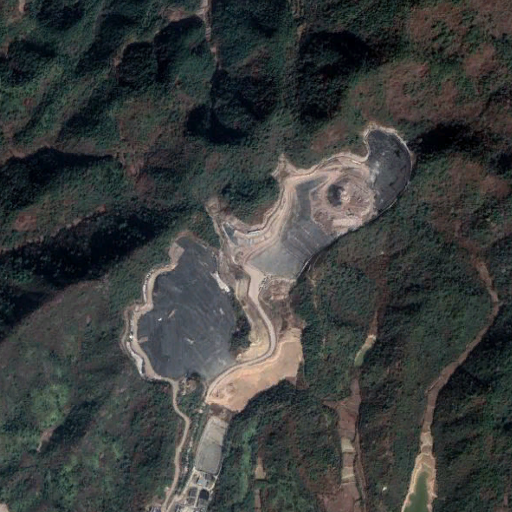lf: (117, 116, 430, 422)
